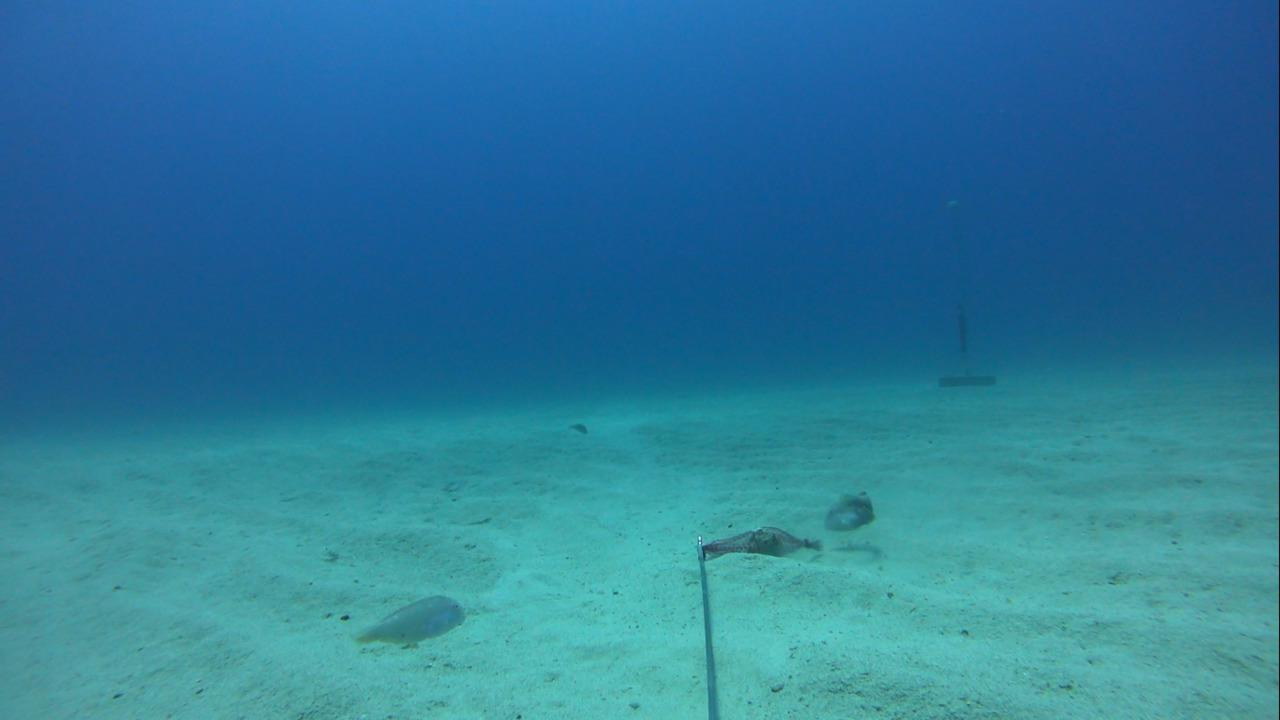raor: (350, 592, 472, 649), (817, 486, 882, 540)
